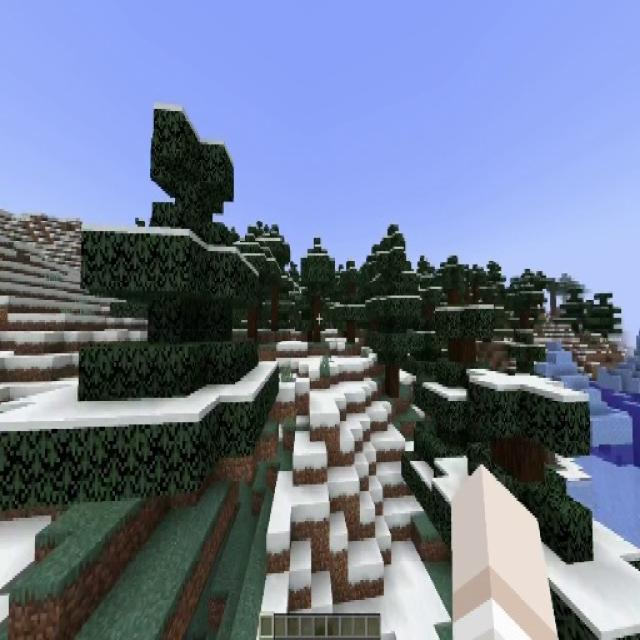spruce: (80, 106, 254, 485), (471, 356, 612, 553), (368, 225, 420, 399), (300, 234, 335, 342)
spruce_log: (493, 433, 544, 485), (449, 338, 474, 364), (386, 356, 399, 396), (271, 288, 279, 330), (247, 308, 257, 338), (346, 322, 354, 344)
